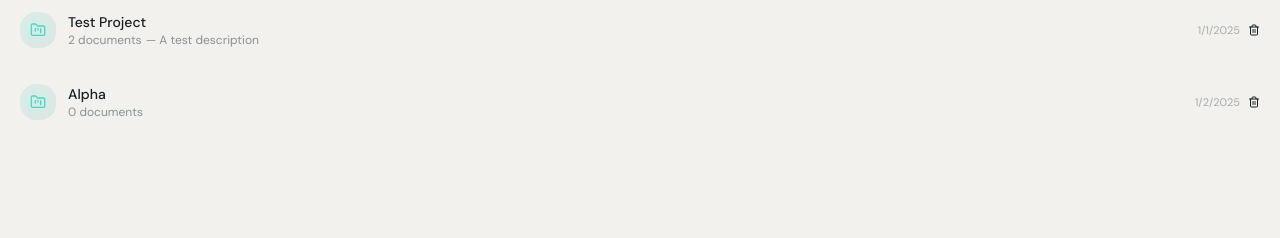
Test: ProjectList › expands project to show documents on click
Click the text "Test Project" at coordinates (107, 22), box [68,13,146,31]
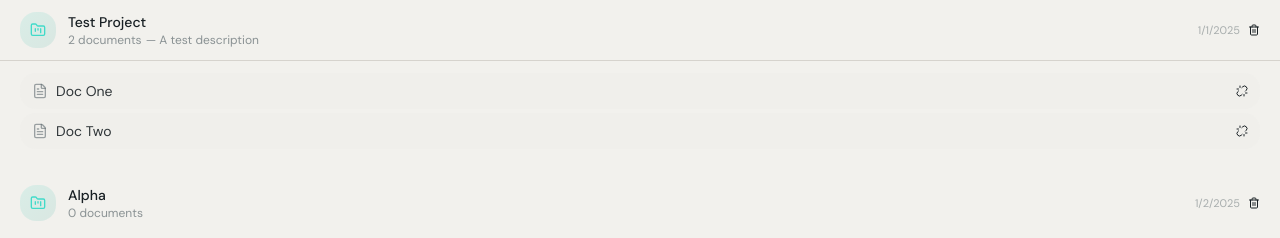
Result: the text "Doc One" is shown at [56,81,112,101]
Result: the text "Doc Two" is shown at [56,121,112,141]
